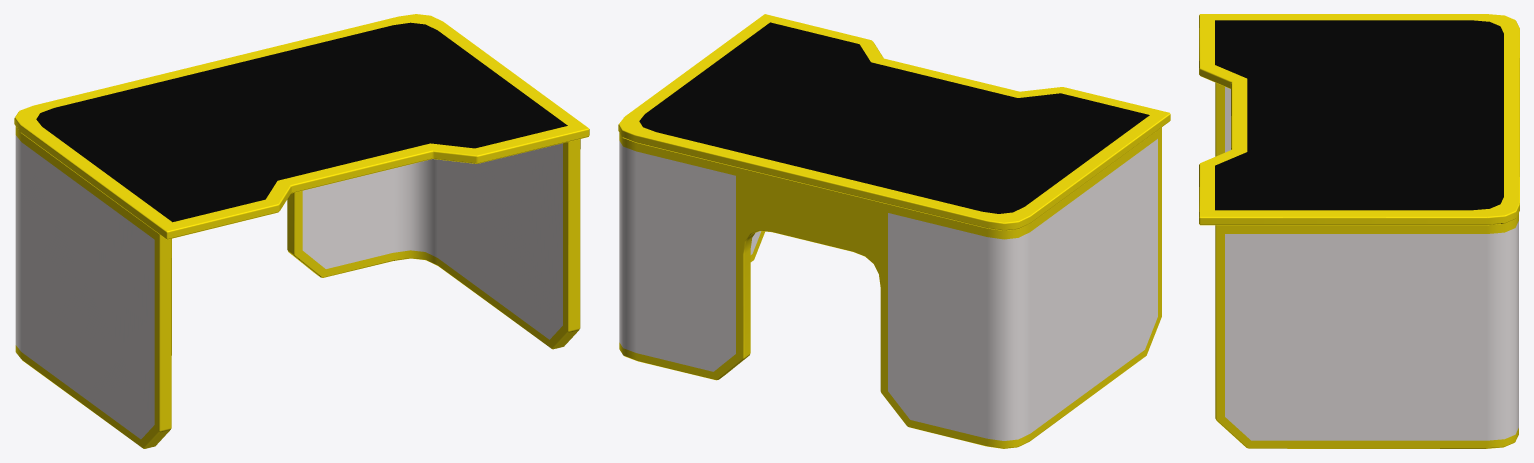
Rendered from Table Asset1.fbx.
The picture shows the model from 3 angles, left to right: view 1: azimuth 30°, elevation 25°; view 2: azimuth 150°, elevation 25°; view 3: azimuth 270°, elevation 25°; orthographic projection. The views are drawn at different scales.
Visible parts, largest first — view 1: Table001; view 2: Table001; view 3: Table001.
Boxes of the visible parts, bbox=[...] form: Table001: bbox=[14, 14, 589, 448]; Table001: bbox=[618, 14, 1170, 448]; Table001: bbox=[1199, 14, 1519, 448].
Size of the model in its own units: 150 by 80 by 99.95.
